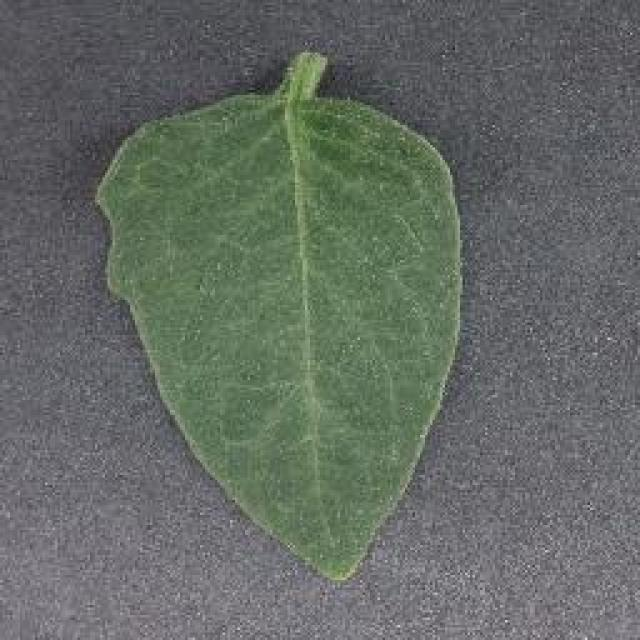Tomato___healthy: (94, 44, 461, 587)
